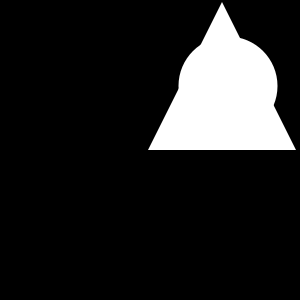rectangle: (178, 36, 278, 136)
triangle: (148, 2, 296, 150), (176, 67, 233, 124)
